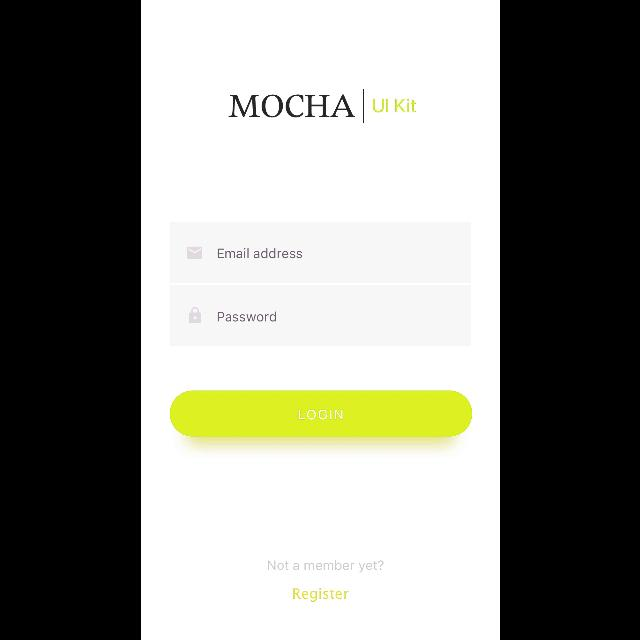icon: (188, 307, 202, 323), (186, 247, 202, 259)
input: (169, 222, 471, 284), (169, 286, 471, 346)
text: (228, 94, 354, 118), (267, 560, 383, 572), (216, 248, 302, 258), (293, 588, 349, 602), (372, 99, 416, 113), (217, 312, 276, 322)
textbutton: (170, 390, 472, 438)
